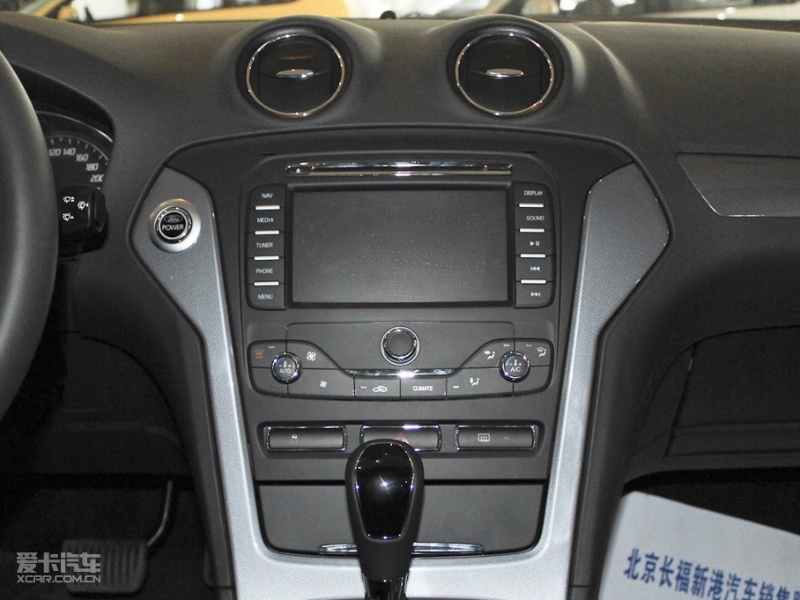control_center: (136, 19, 643, 477)
gear_lever: (324, 432, 483, 579)
odometer: (48, 89, 127, 179)
steering_wheel: (10, 48, 55, 453)
